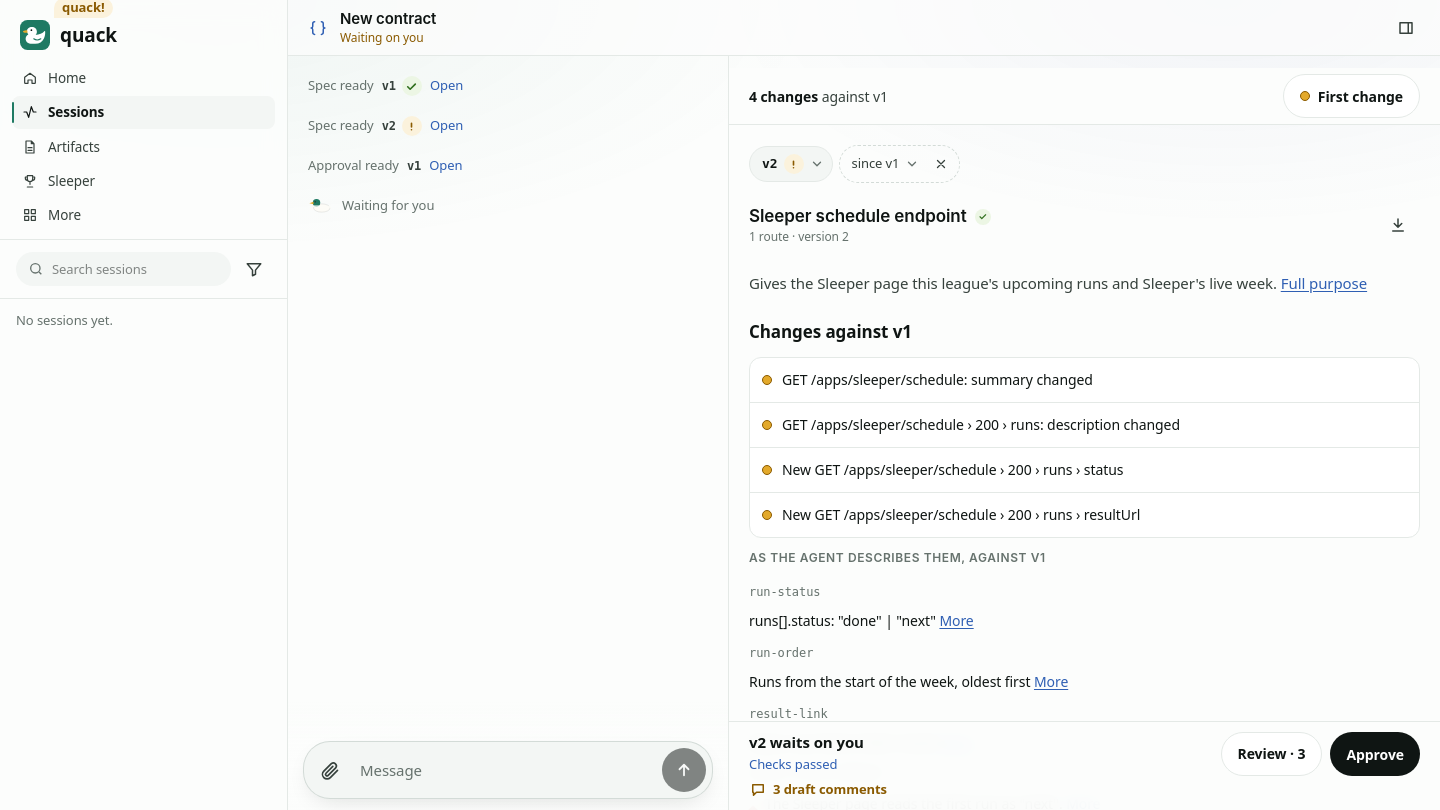
the review sheet lists the drafts with edit and remove, then sends: it prepares the review and rejects with its reason, verbatim
The image size is (1440, 810).
Click the button "Review · 3".
click(1271, 754)  # box [1220, 732, 1322, 776]
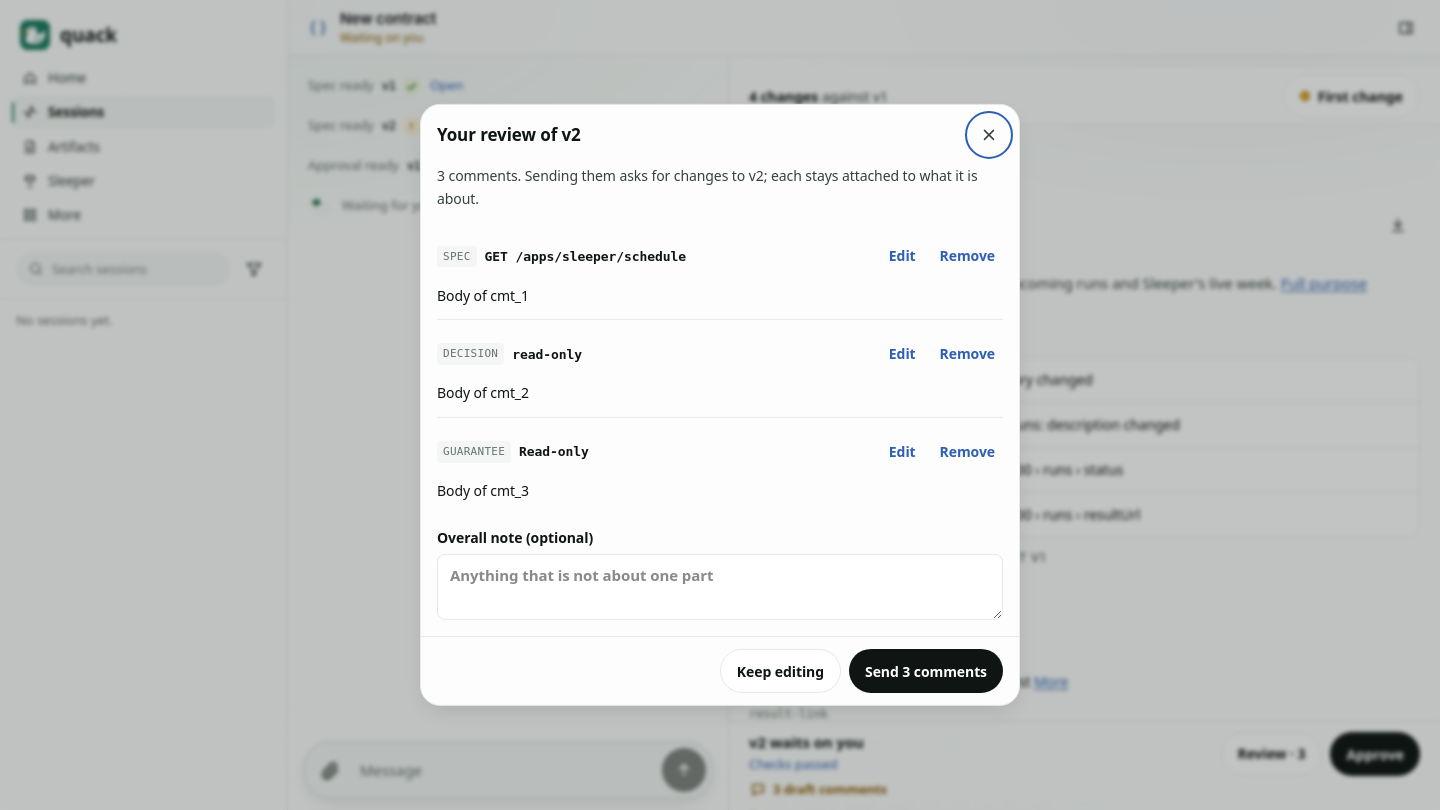
Check: the list items read "SpecGET /apps/sleeper/scheduleEditRemoveBody of cmt_1", "Decisionread-onlyEditRemoveBody of cmt_2", "GuaranteeRead-onlyEditRemoveBody of cmt_3", in this order, box [437, 222, 1003, 319]; [437, 319, 1003, 417]; [437, 417, 1003, 515]
Click the button with aria-label "Edit comment on read-only".
click(902, 354)  # box [881, 332, 924, 376]
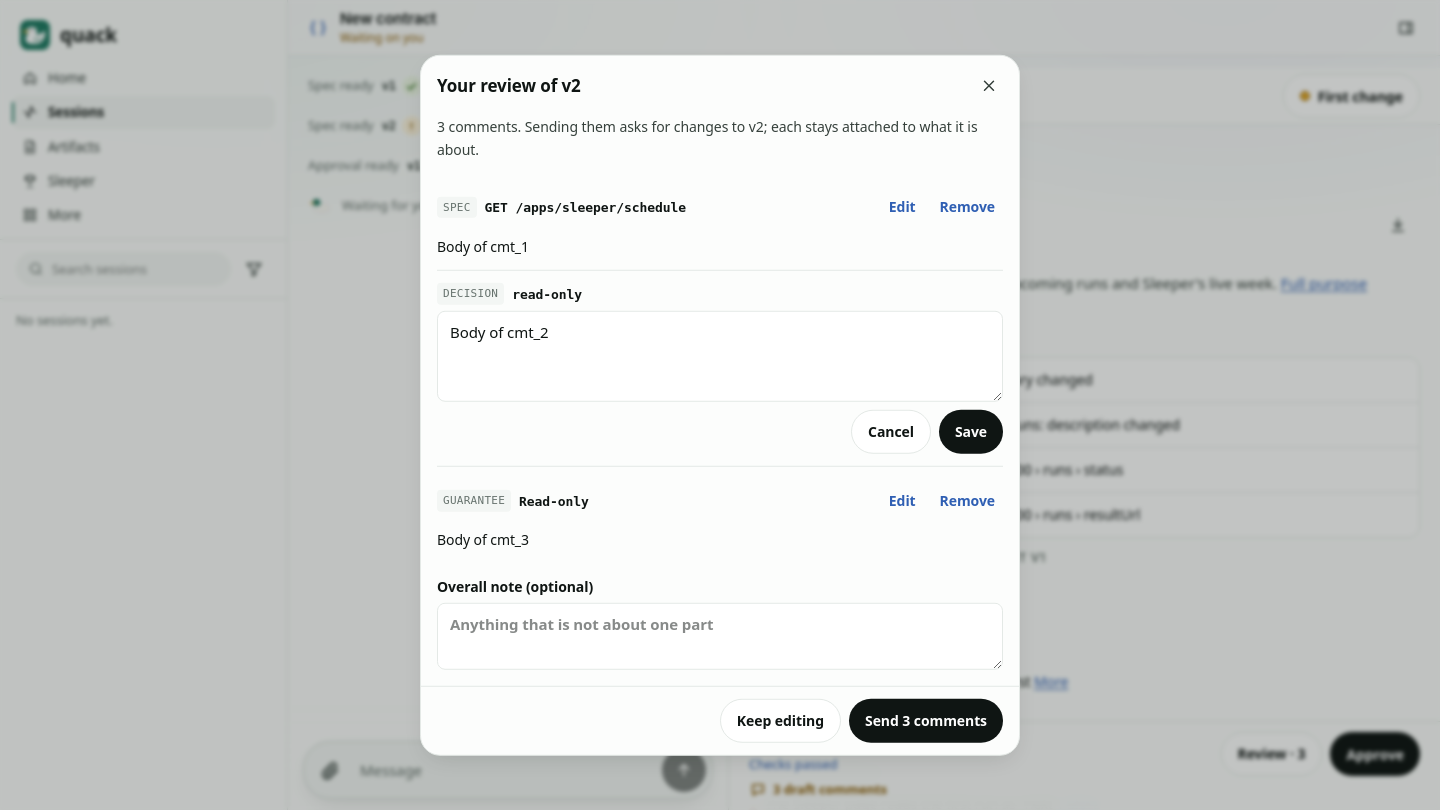
Replace the text in the text box named "Comment on read-only" with "Edited." at point(720, 356), box [437, 311, 1003, 402]
Click the button "Save".
click(971, 432)  # box [939, 410, 1003, 454]
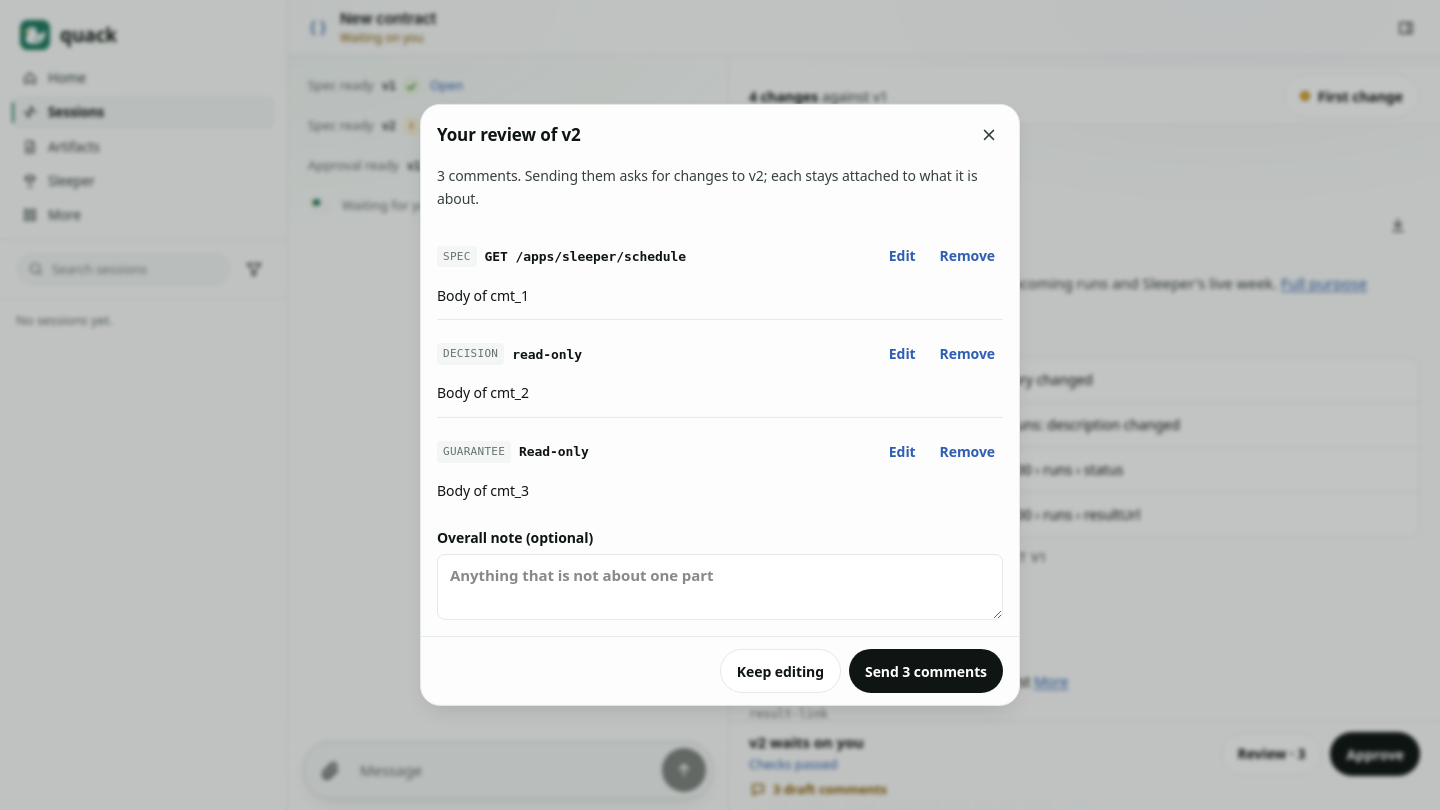
Click the button with aria-label "Remove comment on Read-only".
click(967, 452)  # box [932, 430, 1003, 474]
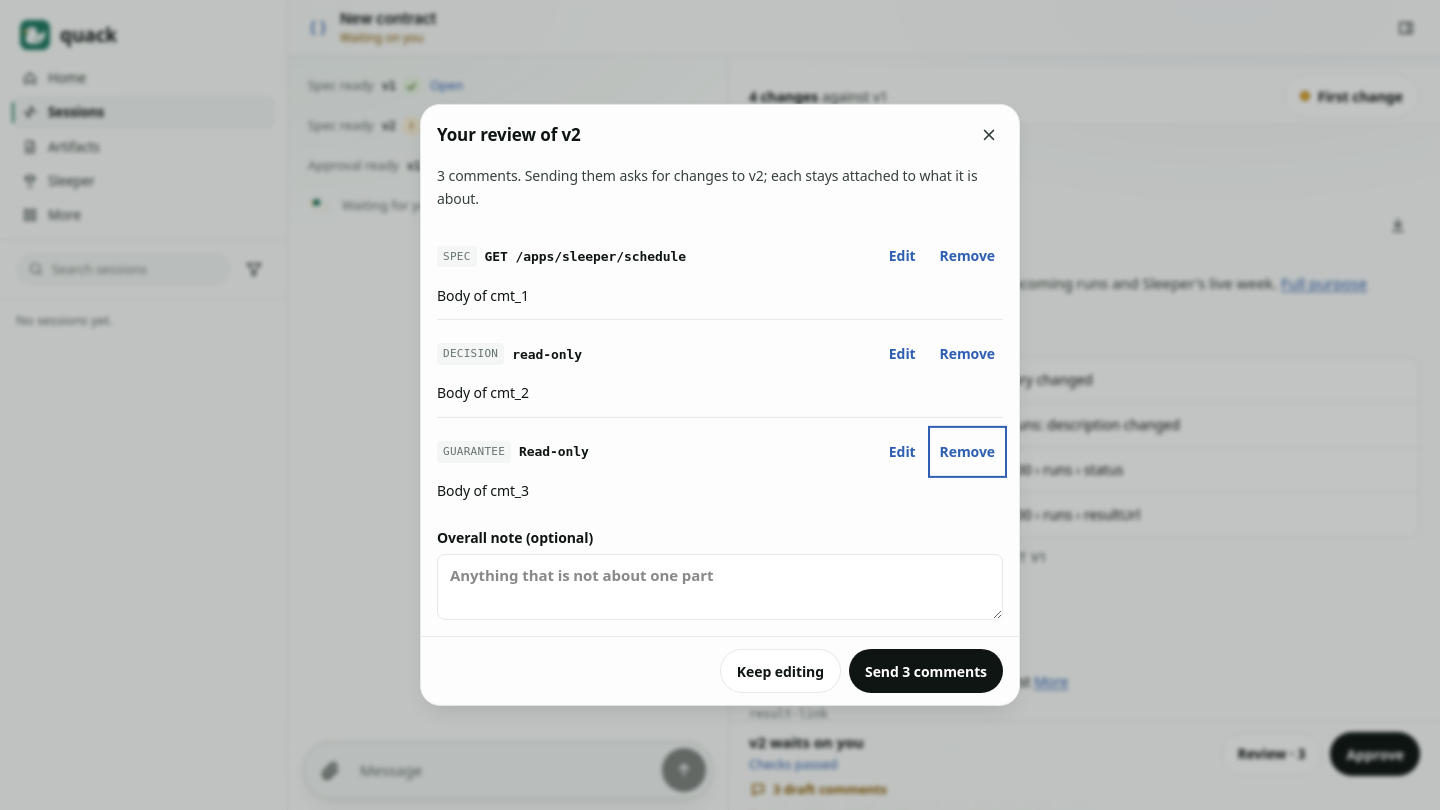
Type "Note." into the text box labelled "Overall note (optional)".
click(720, 587); type("Note.")  # box [437, 553, 1003, 620]
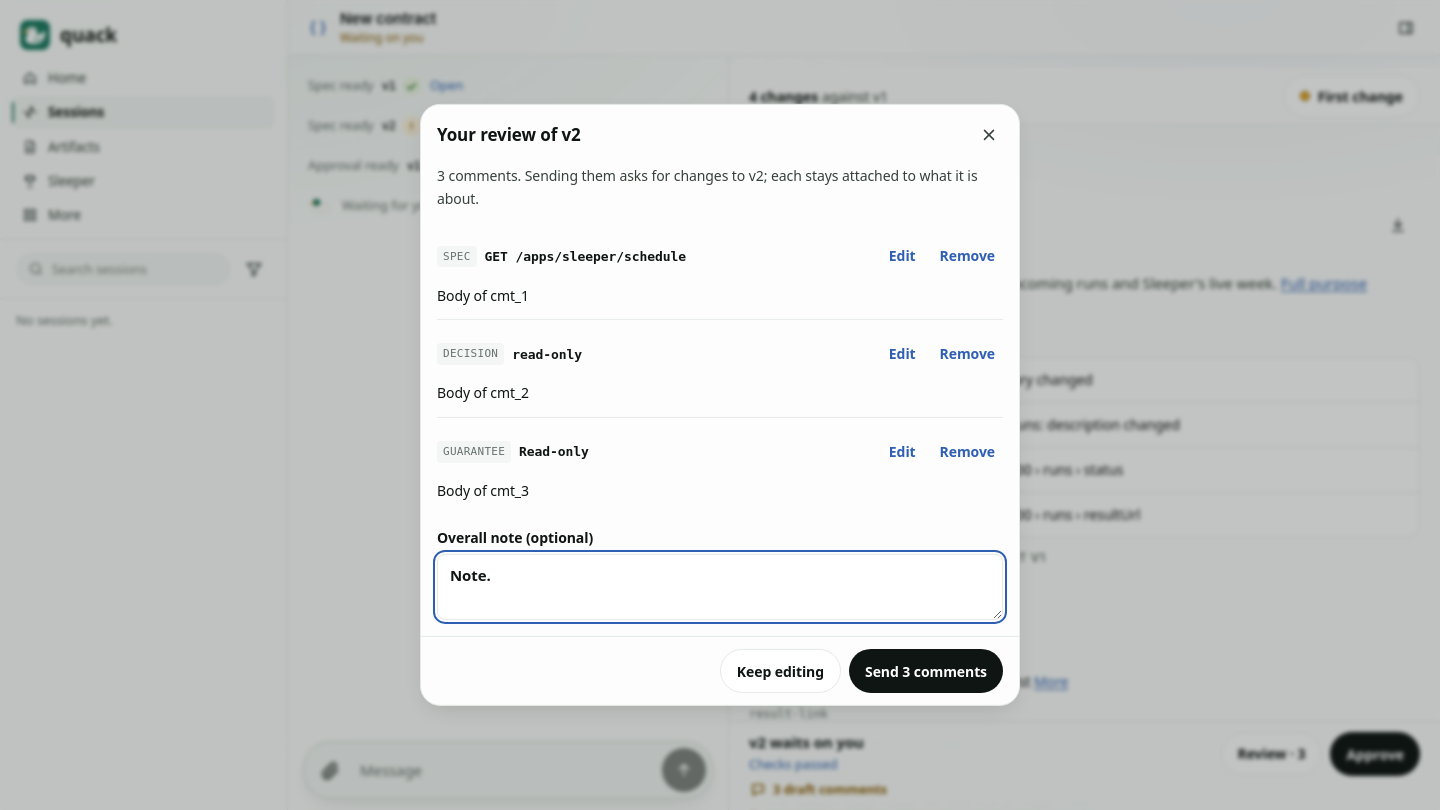
Click the button "Send 3 comments".
click(926, 671)  # box [849, 649, 1003, 693]
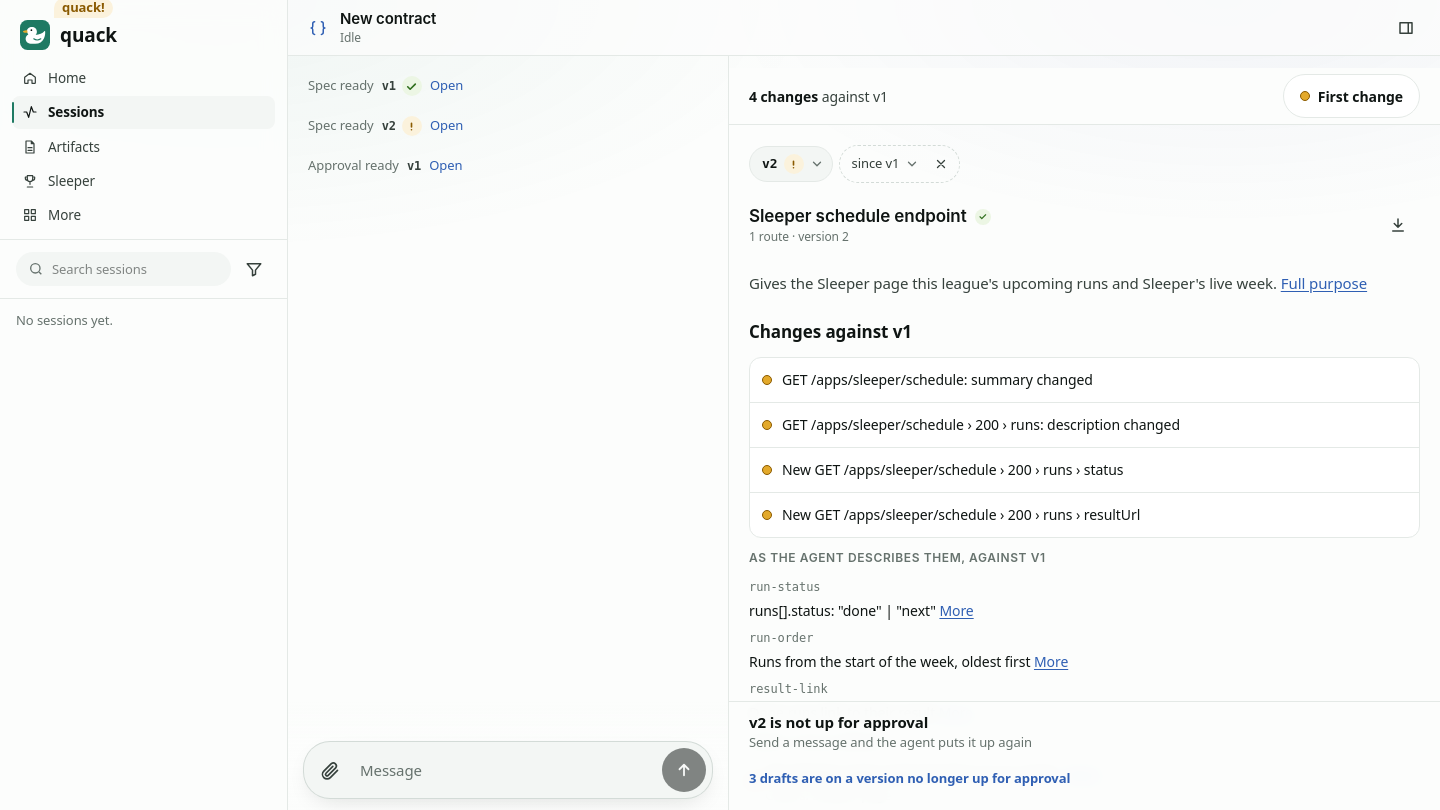
Check: the heading "Your review of v2" is gone
